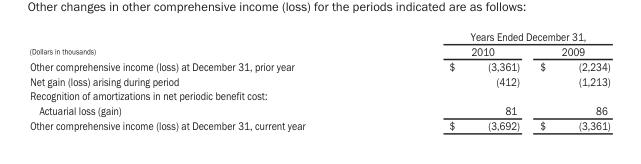table: (28, 29, 609, 132)
table column: (28, 29, 376, 132), (376, 29, 529, 132), (529, 29, 609, 132)
table column header: (28, 29, 609, 58)
table projected row header: (28, 88, 609, 103)
table row: (28, 43, 609, 58), (28, 58, 609, 73), (28, 73, 609, 88), (28, 88, 609, 103), (28, 103, 609, 118), (28, 29, 609, 43), (28, 118, 609, 132)
table spanning cell: (28, 29, 376, 58), (376, 29, 609, 43)
